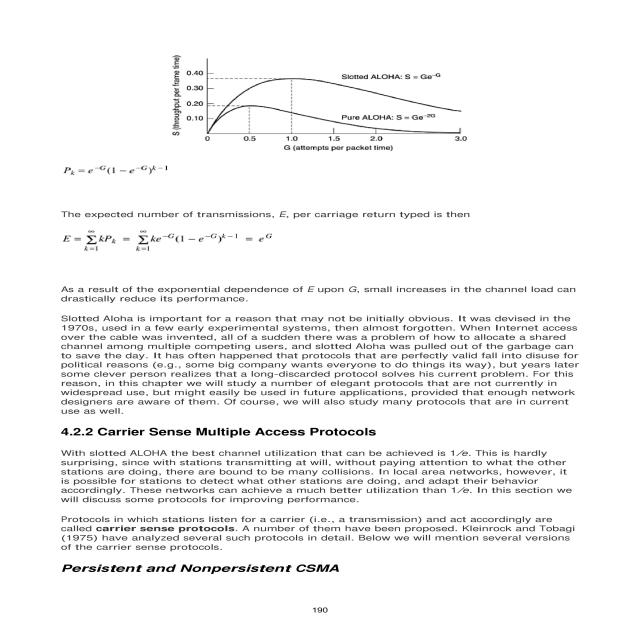diagram: (155, 42, 489, 156)
